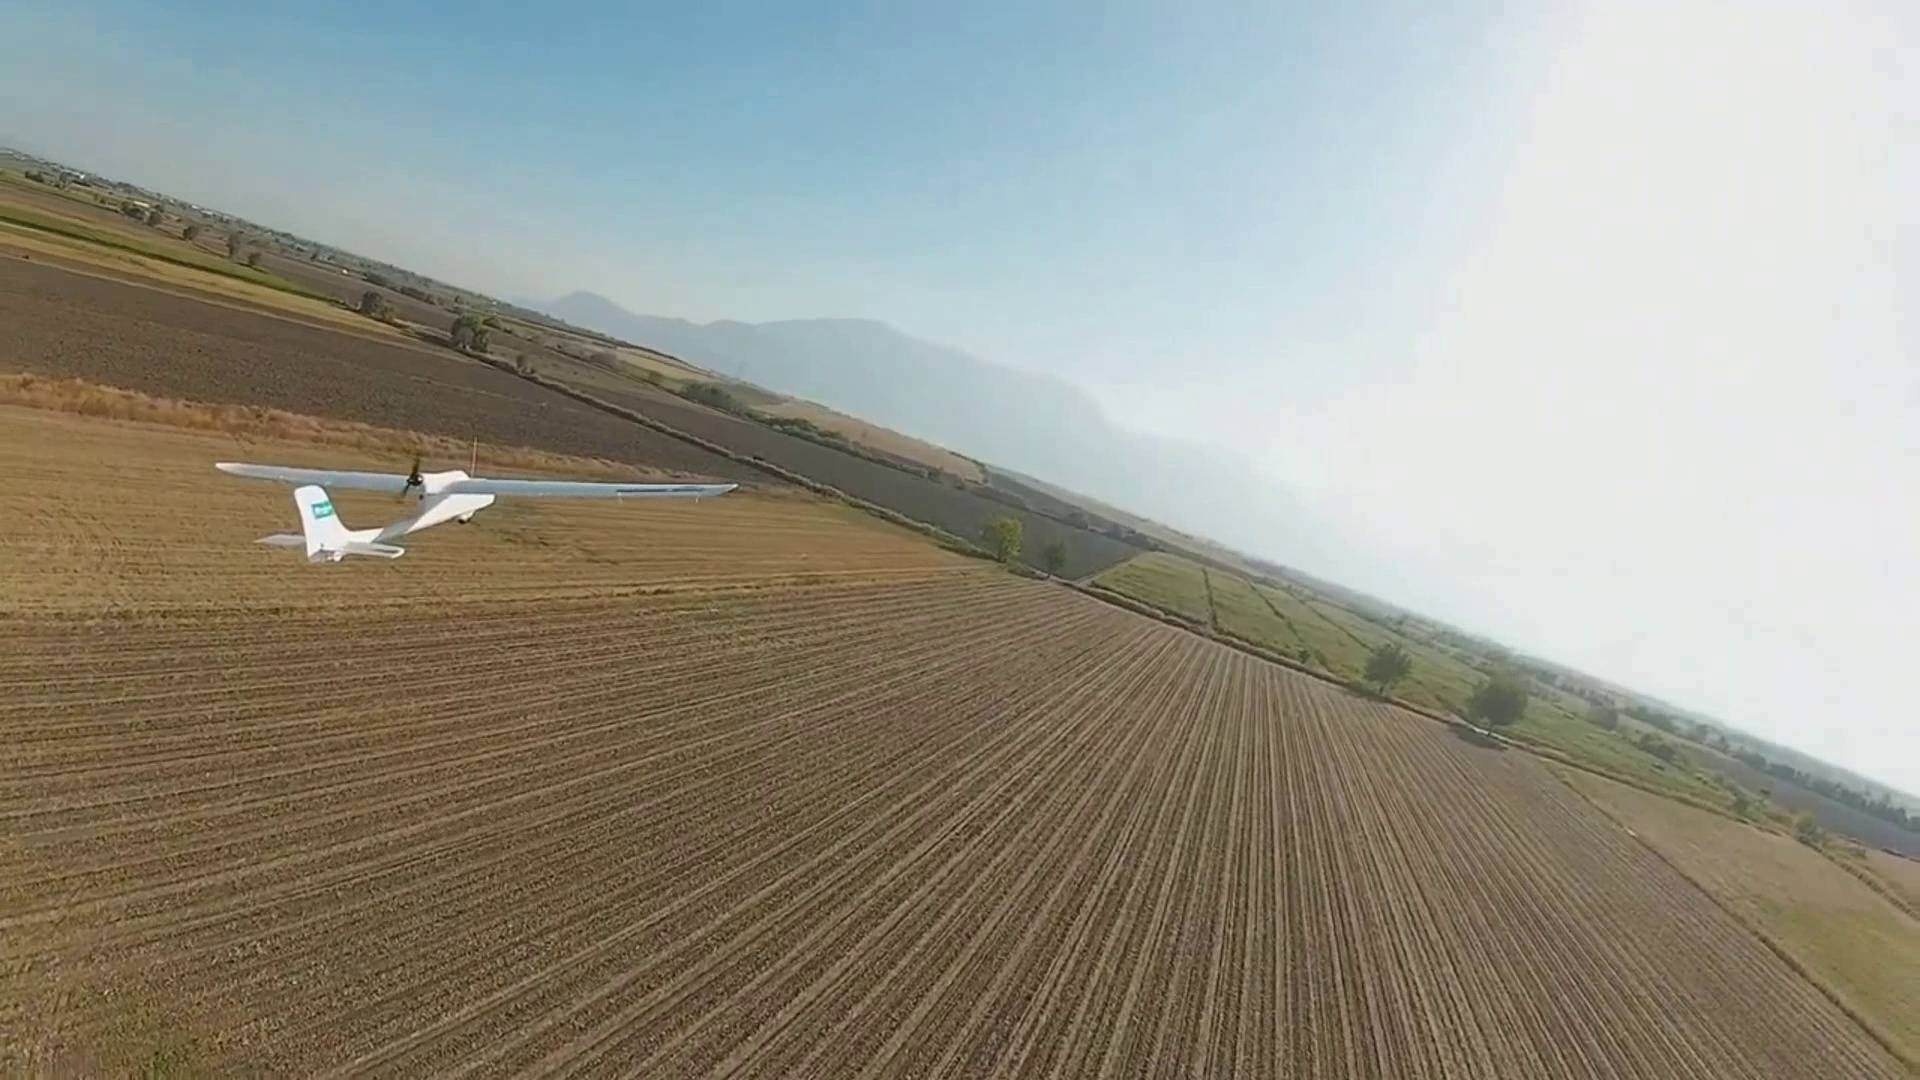airplane: (212, 458, 496, 562)
